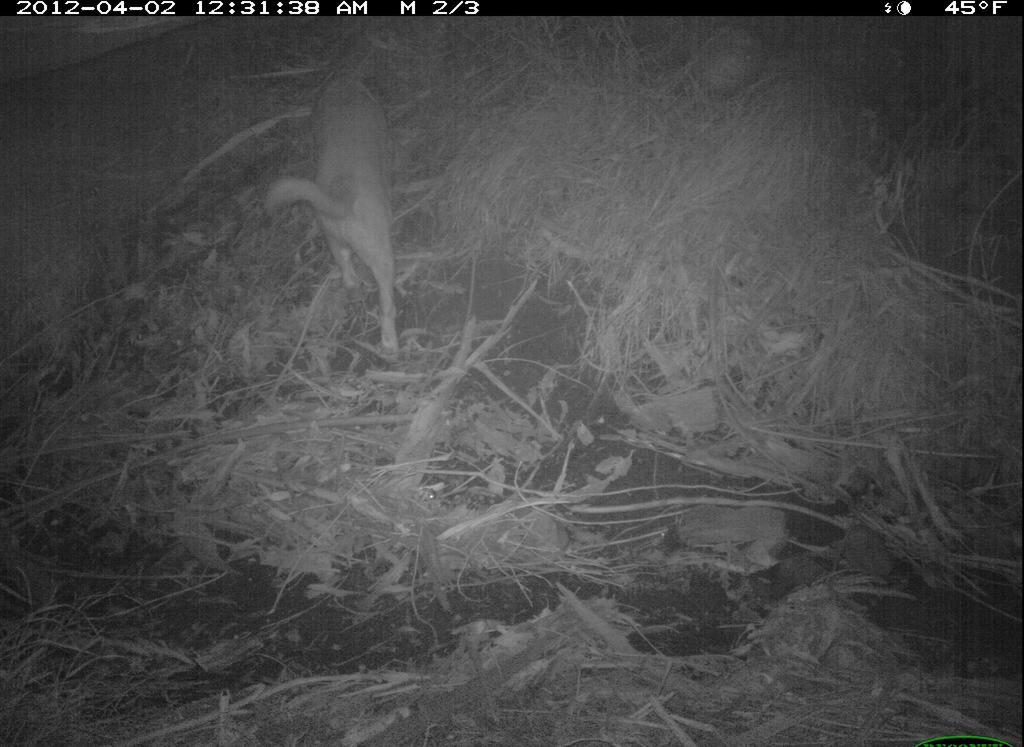dog: (259, 63, 417, 363)
